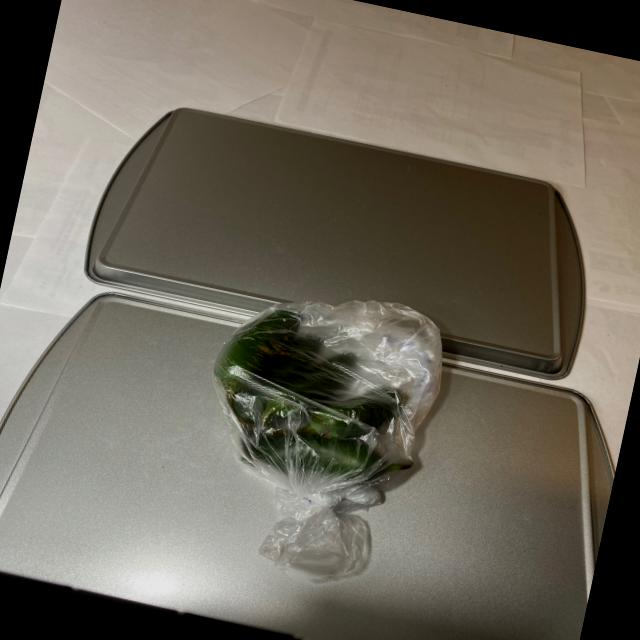chilli: (186, 284, 448, 524)
